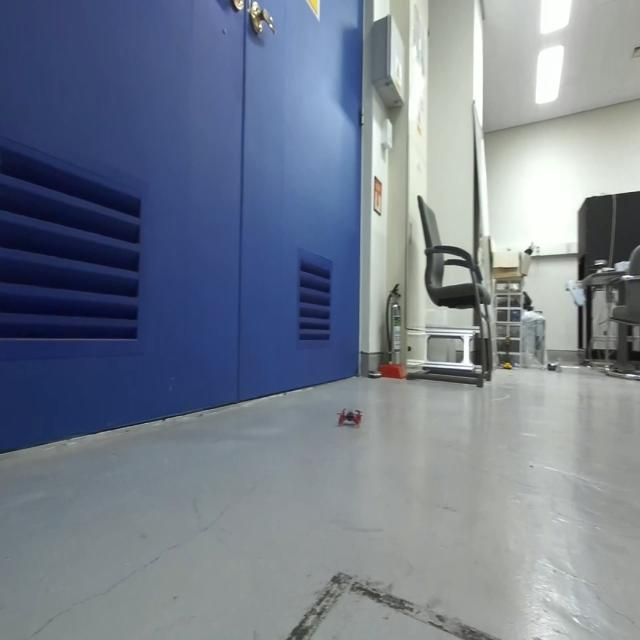crazyflie: (335, 399, 365, 433)
